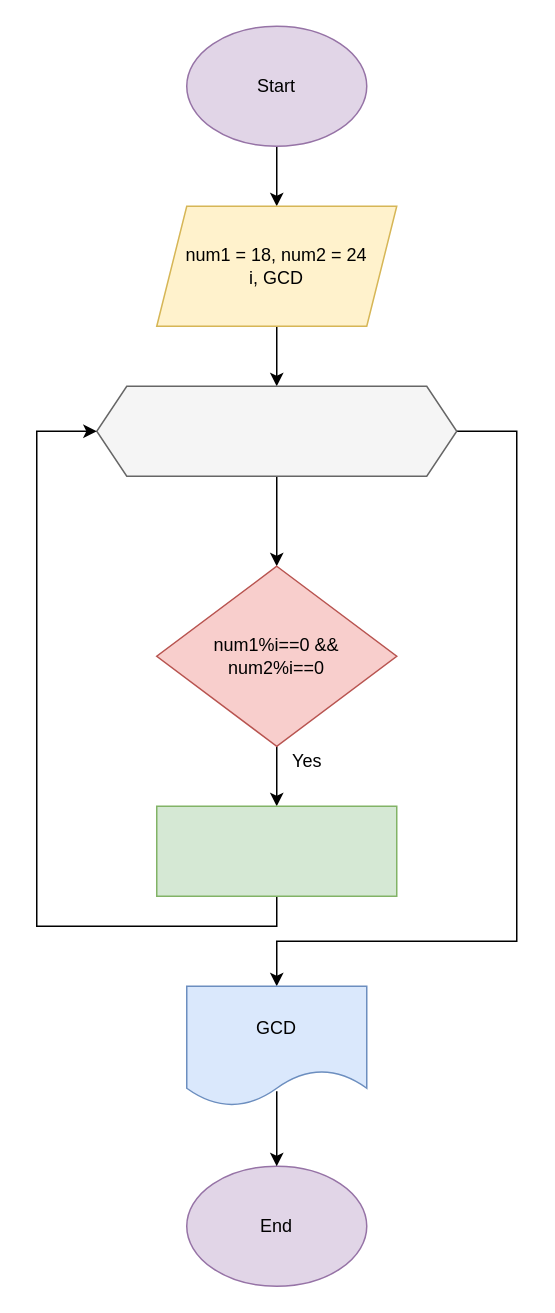
Some shapes in this 555 by 1313 pixel diagram are drawn without their labels. The shapes that lost their labels are listed below. From the top down, each one's centre as x and y in pixels, then its label:
At (x=276, y=430): "i = 1; i<=num1 && i<=num2; ++i".
At (x=276, y=850): "GCD = i".
